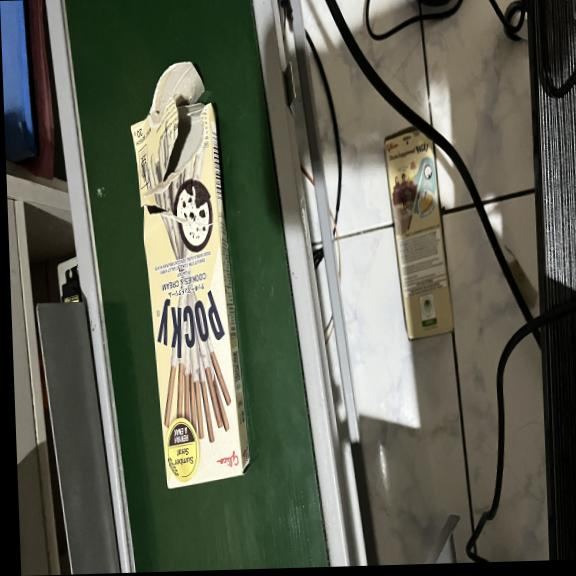Kertas: (131, 94, 251, 488)
